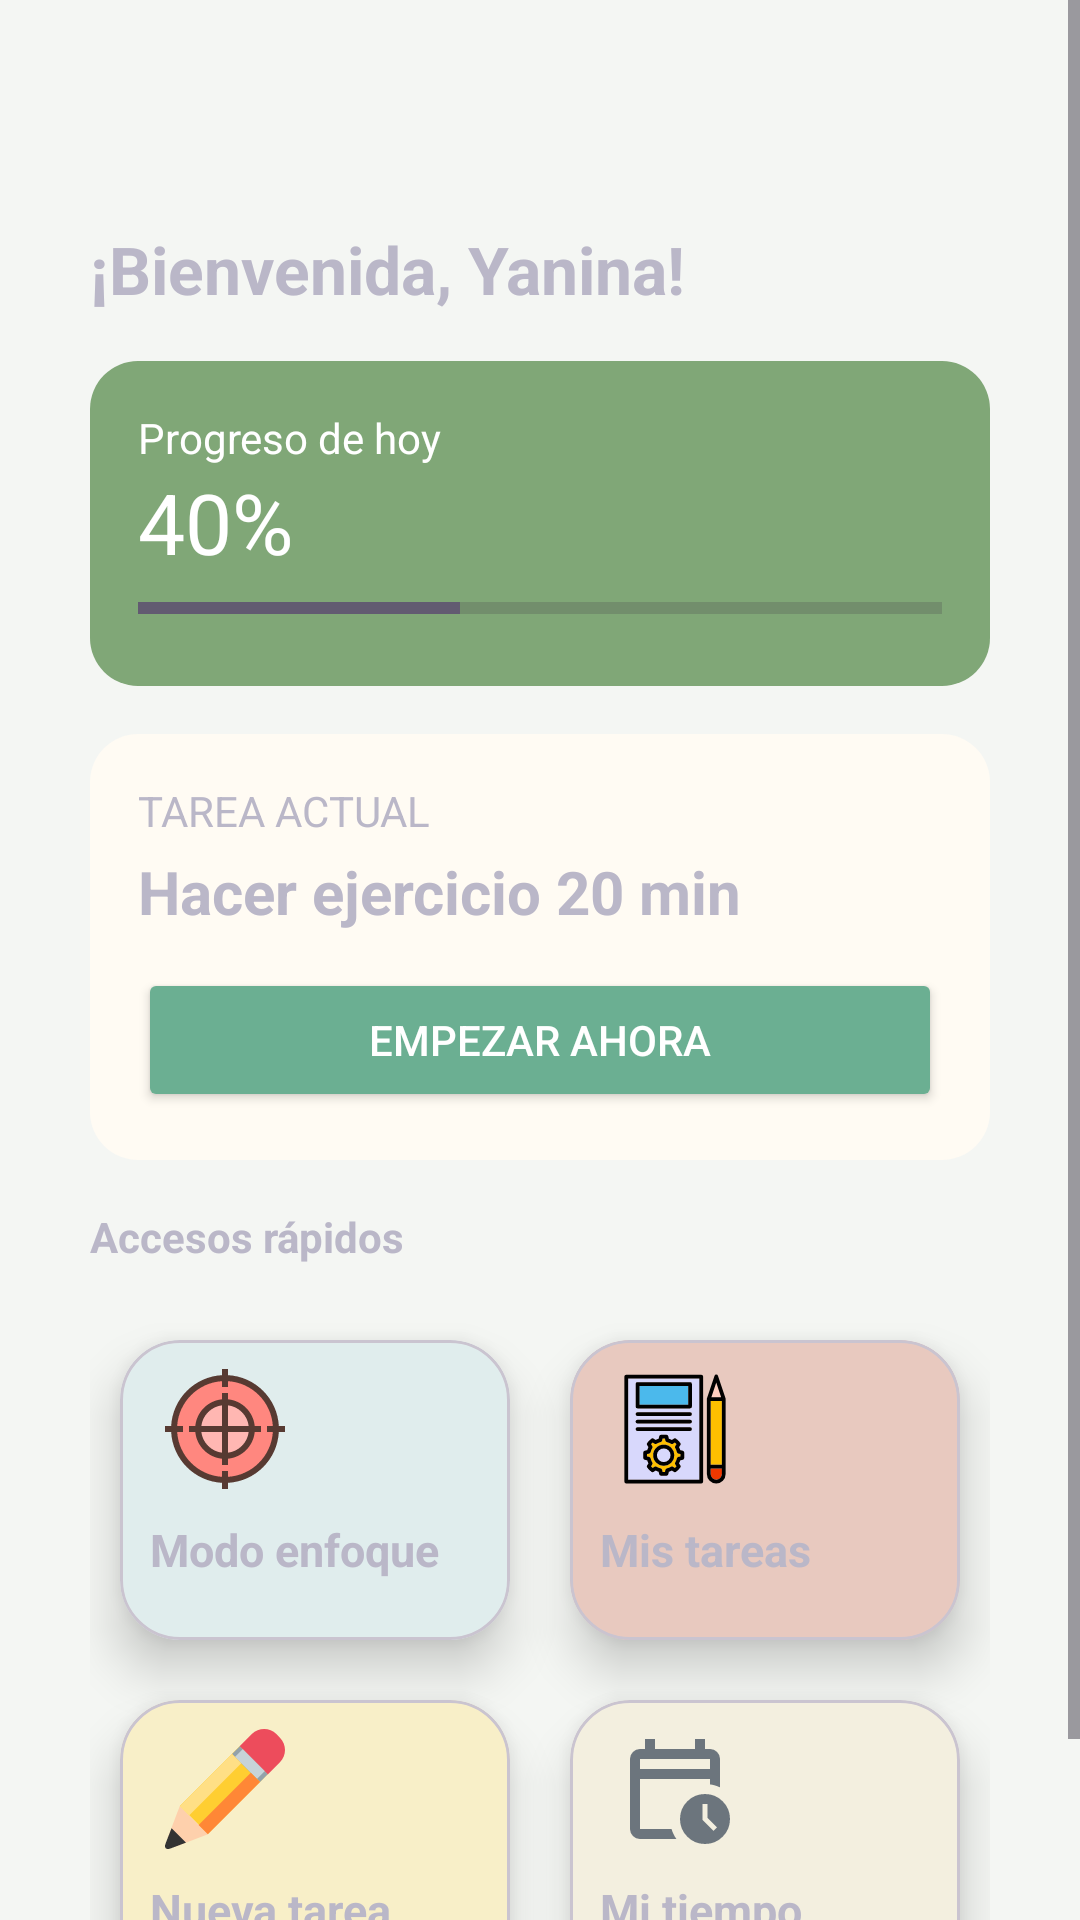

Named icons in this screenshot (1080 × 1920) and their centers, point (x, y):
aim: point (225, 1429)
pencil: point (225, 1789)
task: point (675, 1429)
time: point (680, 1791)
